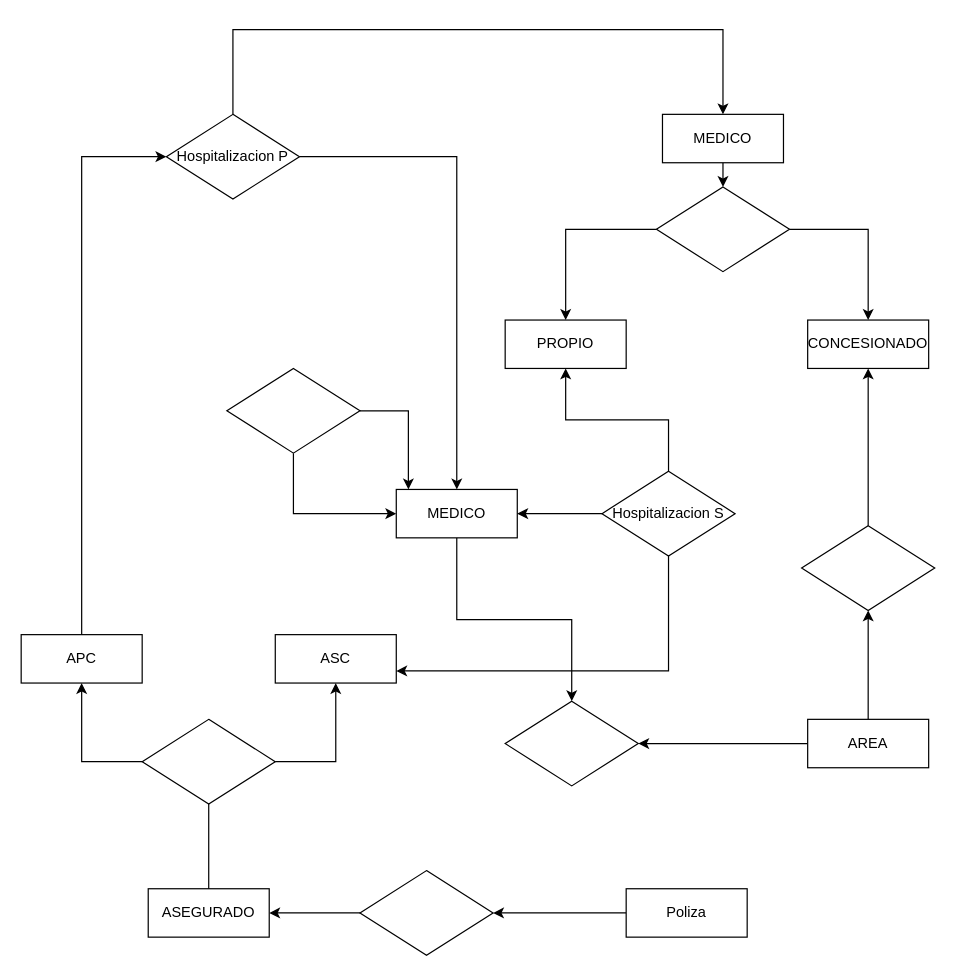
Some shapes in this 956 by 976 pixel diagram are drawn without their labels. The centre of each missing label's shape, as x and y in pixels:
"adscrito" goes at point (571, 743).
"asegura" goes at point (426, 912).
"asignado" goes at point (867, 567).
"Es" goes at point (722, 229).
"JEFE" goes at point (293, 410).
"Pertenecen" goes at point (208, 761).
